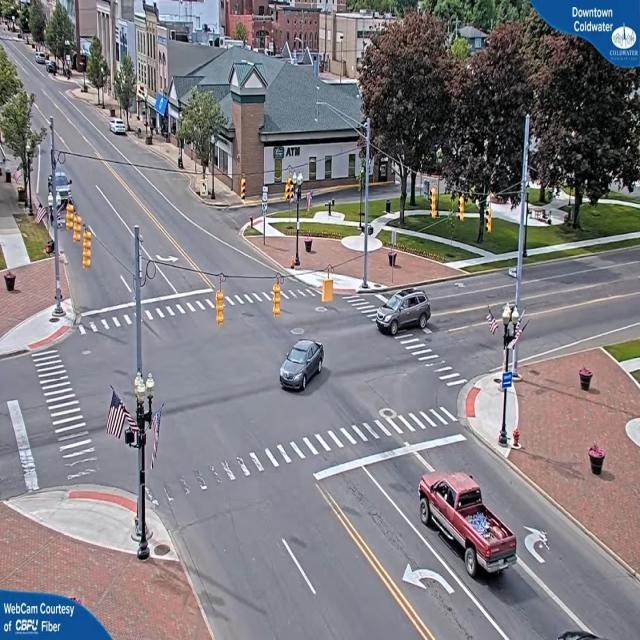car: (418, 468, 511, 564), (373, 290, 432, 336), (278, 341, 326, 392), (111, 119, 129, 136)
